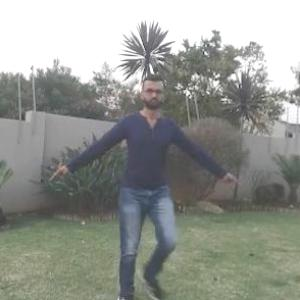land: (76, 93, 208, 256)
